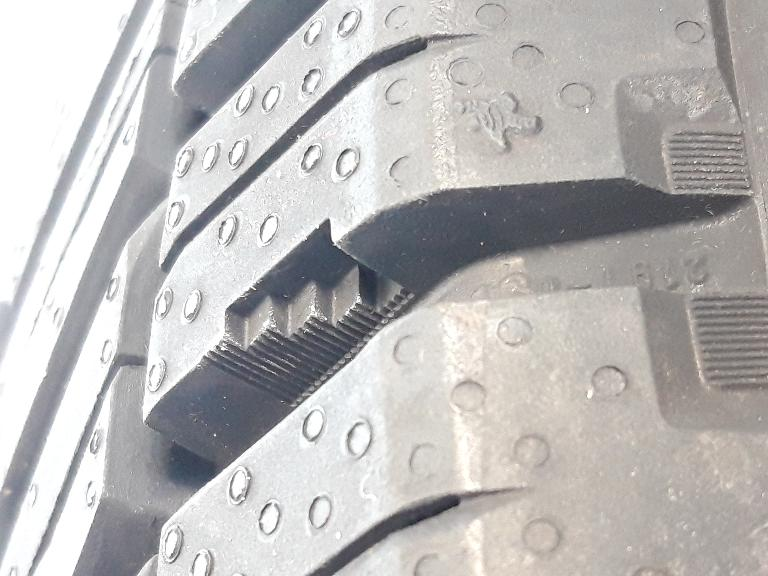temoin:100: (195, 210, 421, 416)
